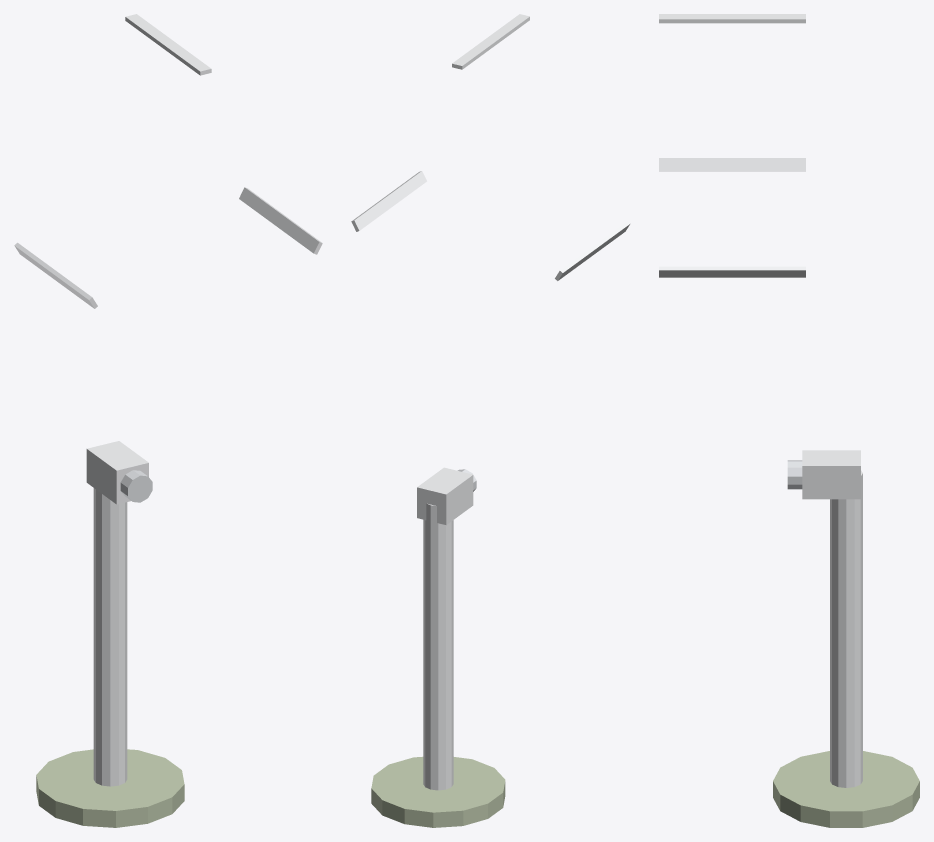
Rendered from wind.glb.
3 renders of one model, left to right at view 1: azimuth 30°, elevation 25°; view 2: azimuth 150°, elevation 25°; view 3: azimuth 270°, elevation 25°, orthographic. The views are drawn at different scales.
Visible parts, largest first — view 1: wind; view 2: wind; view 3: wind.
Boxes of the visible parts, x1,y1,x2,y2 form: wind: [14, 14, 322, 827]; wind: [351, 14, 630, 827]; wind: [659, 14, 919, 827].
Size of the model in its own units: 0.7207 by 2.35 by 0.71.
